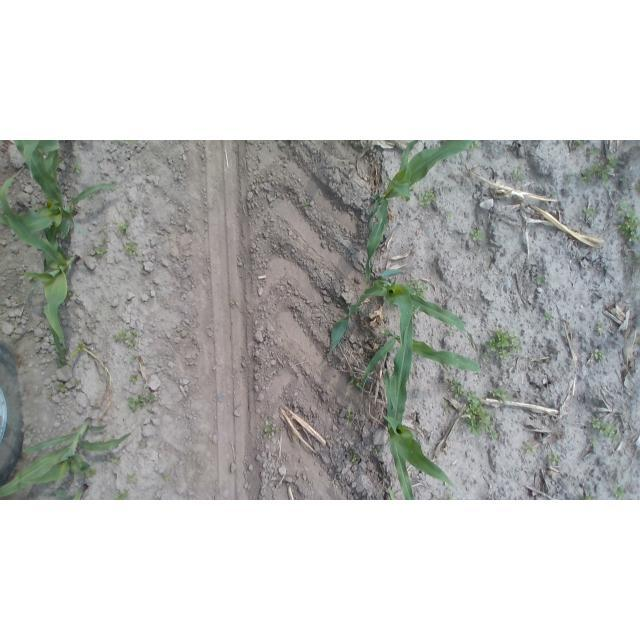Maize: (380, 282, 459, 499), (0, 174, 84, 371), (364, 140, 476, 286), (328, 269, 473, 357), (1, 140, 122, 242), (0, 417, 136, 500), (357, 321, 484, 391), (55, 484, 91, 500)
Weeds: (464, 389, 496, 439), (482, 329, 522, 362), (579, 156, 617, 186), (615, 200, 640, 245), (592, 417, 620, 444), (127, 390, 158, 412), (401, 279, 429, 301), (66, 342, 86, 371), (114, 327, 138, 347), (418, 186, 439, 206), (263, 420, 281, 443), (491, 387, 511, 405), (123, 237, 139, 257), (469, 226, 487, 242), (611, 479, 626, 497), (450, 379, 463, 398), (581, 203, 597, 218), (509, 168, 525, 183), (113, 488, 132, 500), (546, 451, 561, 466), (116, 221, 131, 236), (624, 252, 637, 269), (522, 441, 536, 455), (587, 145, 603, 157), (592, 347, 604, 362), (99, 228, 110, 244), (108, 454, 121, 467), (542, 311, 554, 325), (24, 272, 38, 284), (81, 468, 97, 478), (534, 272, 546, 285), (71, 163, 83, 176), (126, 473, 138, 486), (303, 198, 314, 212), (578, 491, 595, 500), (573, 140, 592, 148), (345, 408, 354, 424), (230, 298, 241, 311), (95, 247, 108, 258), (589, 435, 599, 449), (55, 383, 69, 393), (489, 429, 500, 441), (443, 400, 454, 412), (471, 141, 484, 151), (594, 323, 603, 337), (350, 452, 360, 464), (634, 176, 640, 195), (128, 374, 140, 383), (549, 190, 558, 201), (442, 492, 454, 500), (444, 210, 453, 220), (443, 371, 452, 381), (130, 209, 139, 219), (129, 355, 138, 365), (46, 392, 55, 401), (375, 447, 382, 458), (162, 474, 170, 483), (566, 172, 574, 181), (356, 381, 363, 391), (71, 380, 82, 386), (446, 329, 454, 336), (348, 378, 355, 386), (634, 142, 640, 151), (637, 338, 640, 345)
